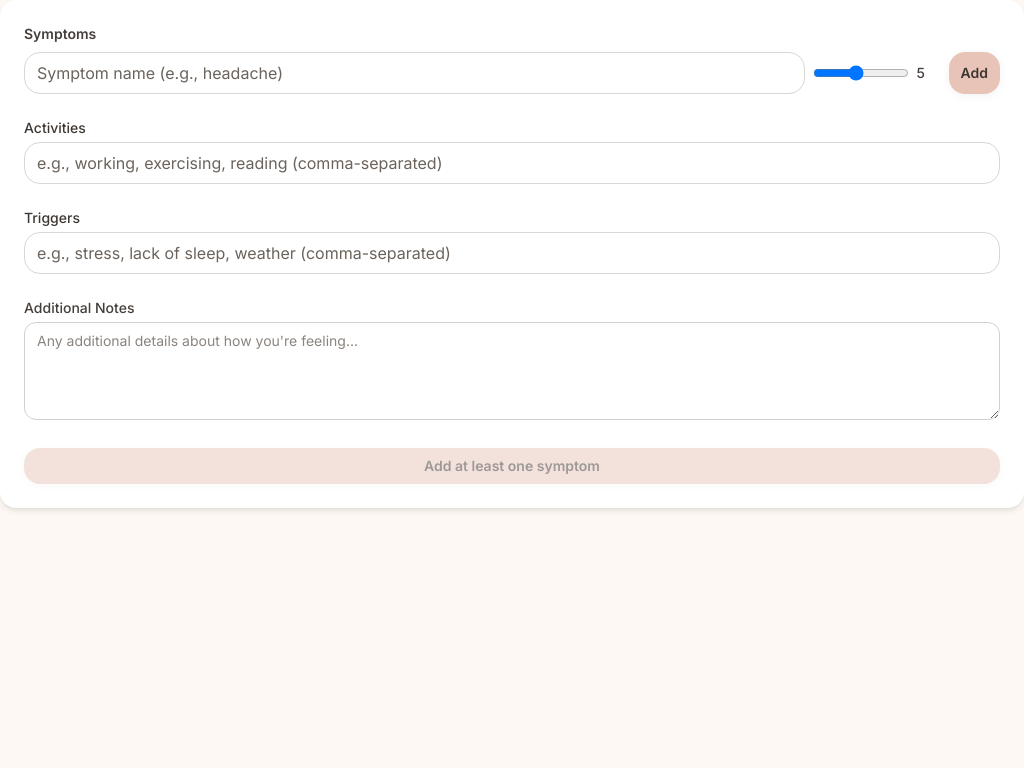
Test case: ManualCheckInForm › should add symptom with severity
Type "headache" into the field with placeholder "Symptom name (e.g., headache)" at point(414, 73), box [24,52,804,94]
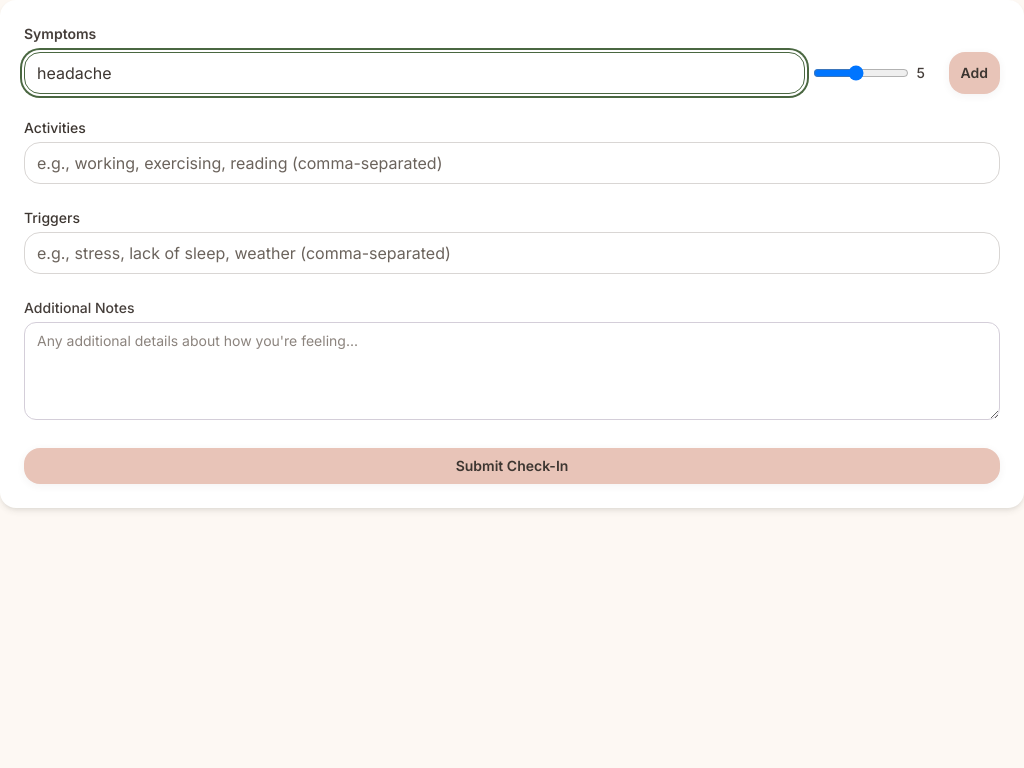
Click the button with aria-label "add symptom" at point(974, 73), box [948,52,1000,94]
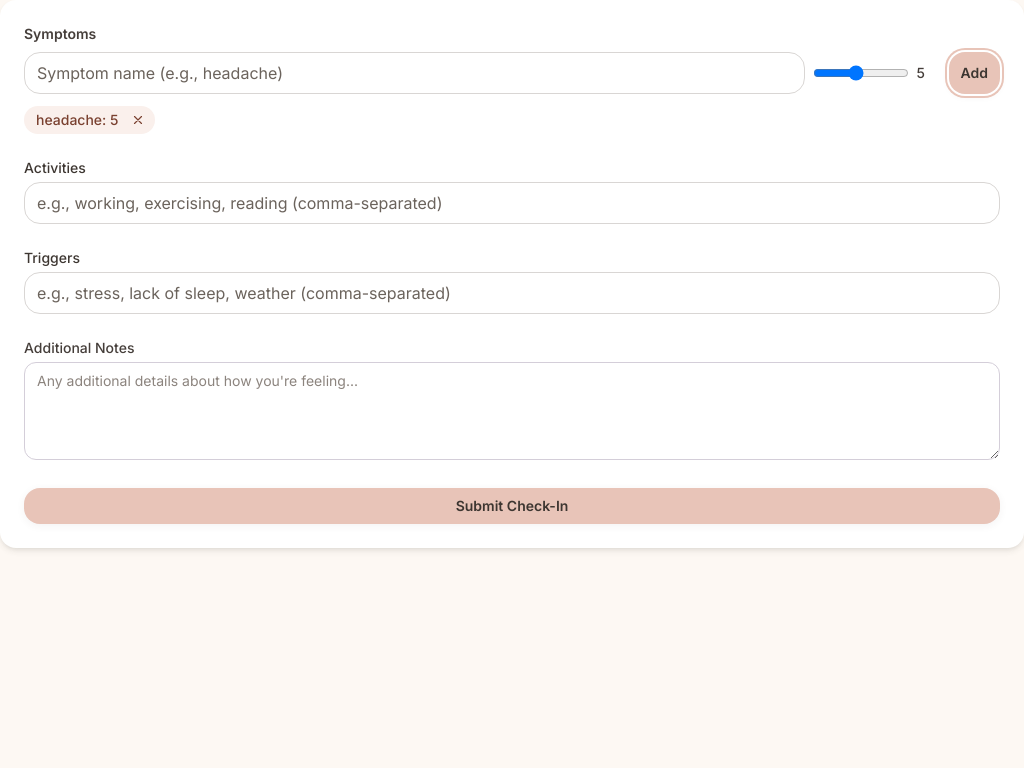
Now the text "headache: 5" is shown, box [36,110,118,130]
